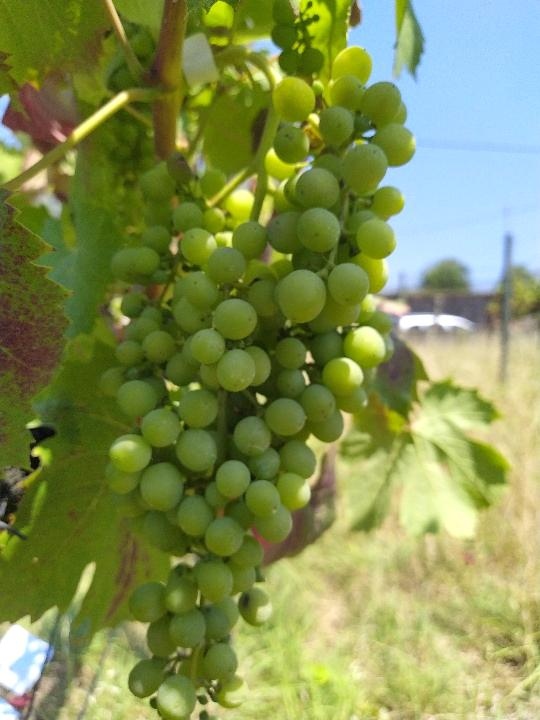grape: (95, 6, 415, 716)
